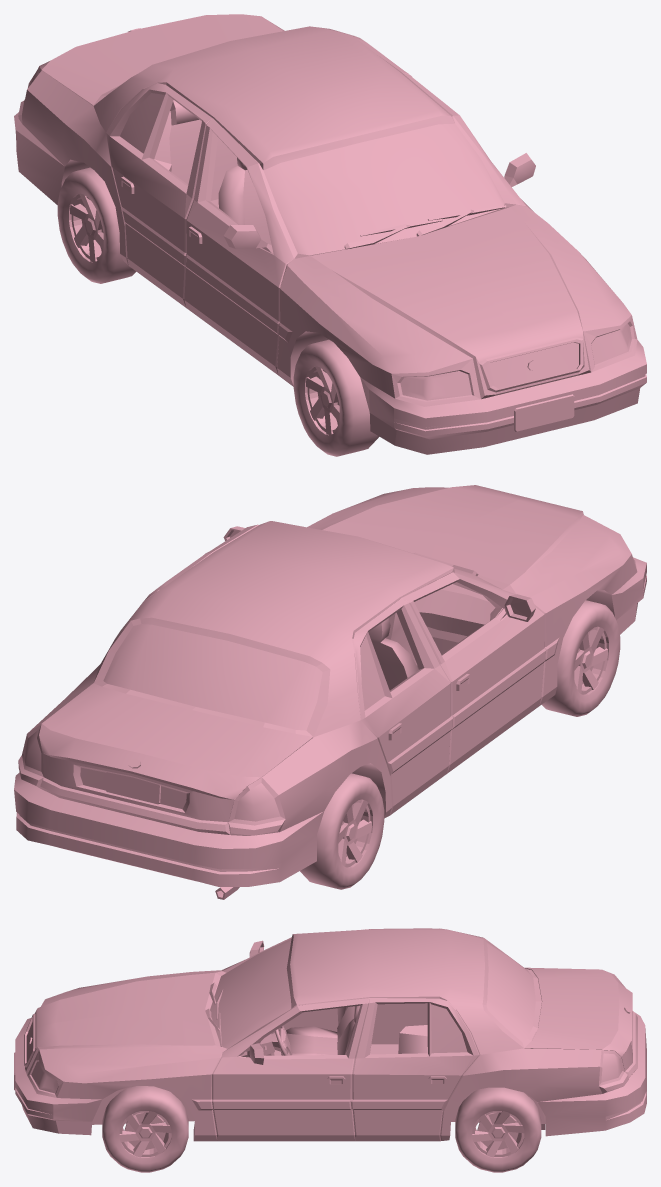
File: Sedan.fbx
The picture shows the model from 3 angles, top to bottom: view 1: azimuth 30°, elevation 25°; view 2: azimuth 150°, elevation 25°; view 3: azimuth 270°, elevation 25°; orthographic projection. The views are drawn at different scales.
Parts seen in each view (by area): view 1: Sedan; view 2: Sedan; view 3: Sedan.
Part boxes in pixels (<box>): Sedan: <box>14,14,646,456</box>; Sedan: <box>14,485,646,899</box>; Sedan: <box>14,928,646,1172</box>.
Bounding box in the file's own units: 217 × 150 × 517.
